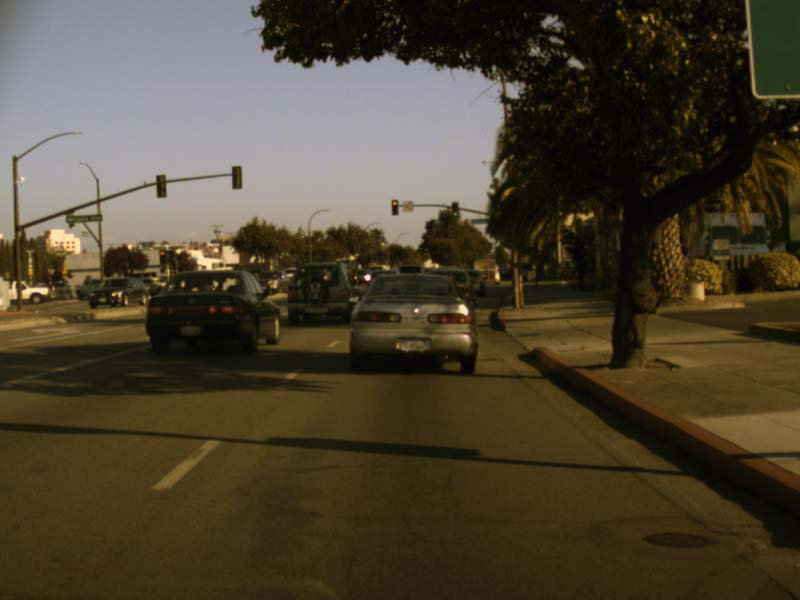Green: (452, 201, 458, 217)
Red: (391, 199, 398, 215)
